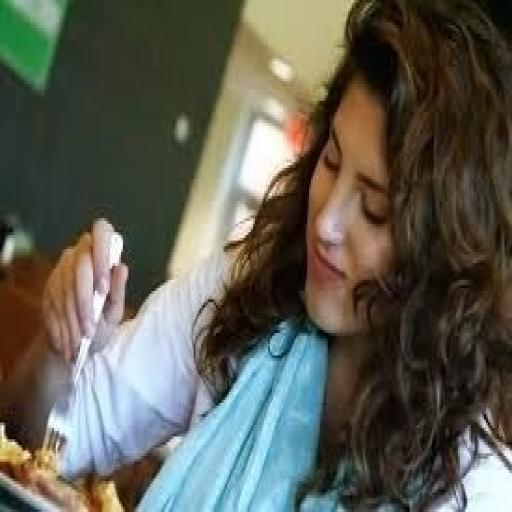eating: (36, 0, 510, 509)
